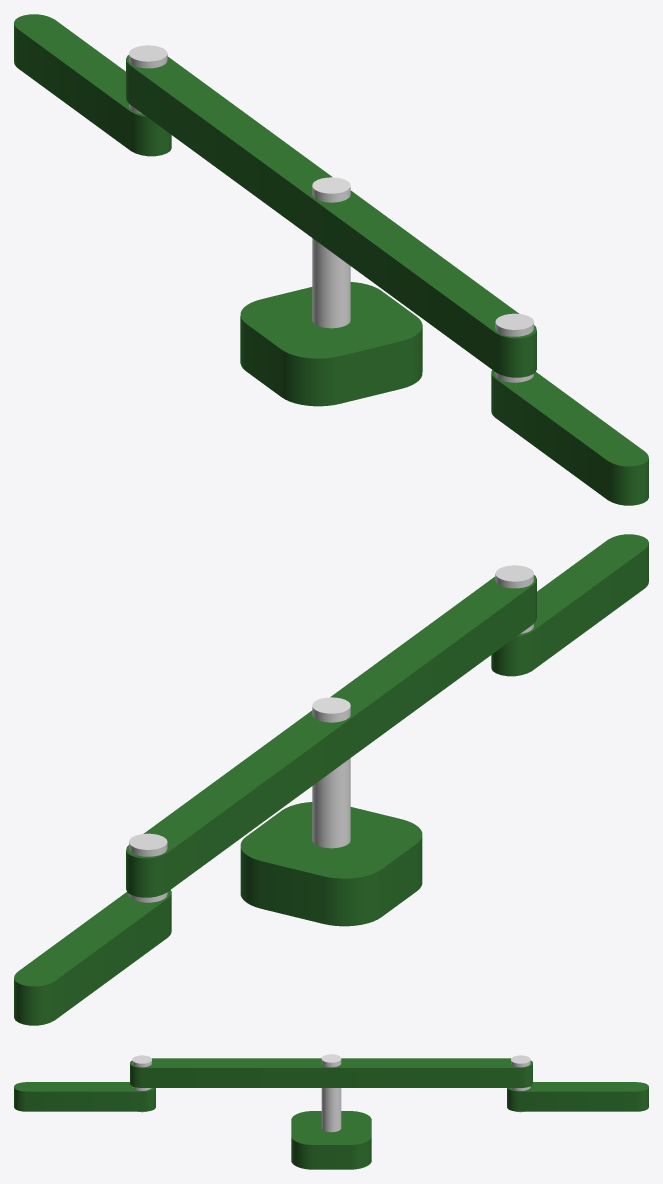
Rendered from Spinner Medium.fbx.
3 views of the same model, one above another, from view 1: azimuth 30°, elevation 25°; view 2: azimuth 150°, elevation 25°; view 3: azimuth 270°, elevation 25° (orthographic). The views are drawn at different scales.
Parts seen in each view (by area): view 1: Spinner Medium.001, Spinner Medium, Spinner Medium.003, Spinner Medium.002; view 2: Spinner Medium.001, Spinner Medium, Spinner Medium.002, Spinner Medium.003; view 3: Spinner Medium.001, Spinner Medium, Spinner Medium.003, Spinner Medium.002.
Part boxes in pixels (x1=…): Spinner Medium.001: x1=126, y1=45, x2=536, y2=382; Spinner Medium: x1=240, y1=177, x2=422, y2=406; Spinner Medium.003: x1=491, y1=370, x2=648, y2=505; Spinner Medium.002: x1=14, y1=14, x2=171, y2=156; Spinner Medium.001: x1=126, y1=565, x2=536, y2=902; Spinner Medium: x1=240, y1=697, x2=422, y2=926; Spinner Medium.002: x1=14, y1=890, x2=171, y2=1025; Spinner Medium.003: x1=491, y1=534, x2=648, y2=676; Spinner Medium.001: x1=130, y1=1055, x2=532, y2=1112; Spinner Medium: x1=291, y1=1054, x2=371, y2=1169; Spinner Medium.003: x1=14, y1=1082, x2=155, y2=1111; Spinner Medium.002: x1=507, y1=1082, x2=648, y2=1111.
Bounding box in the file's own units: 86.11 × 111 × 678.
